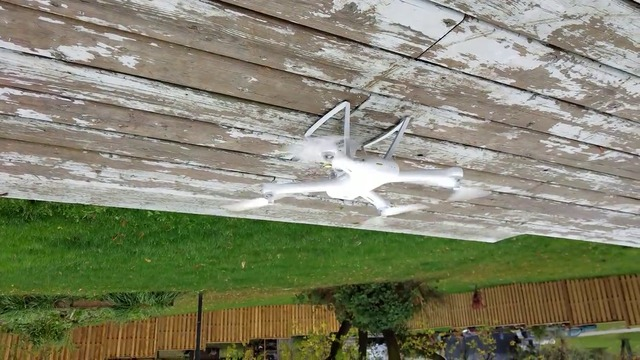drone: (242, 100, 464, 215)
